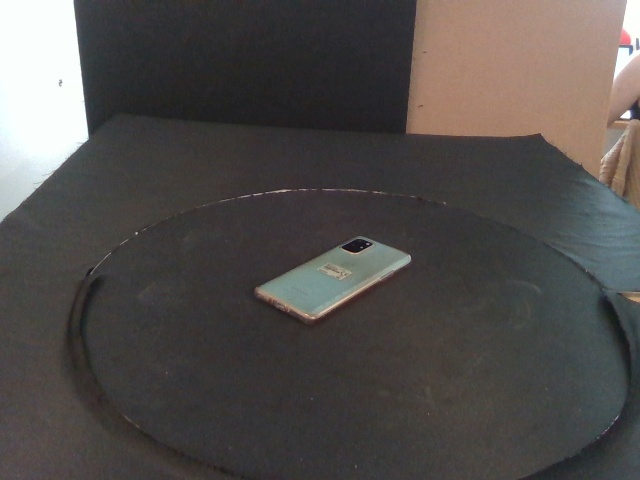phone: (253, 234, 412, 326)
